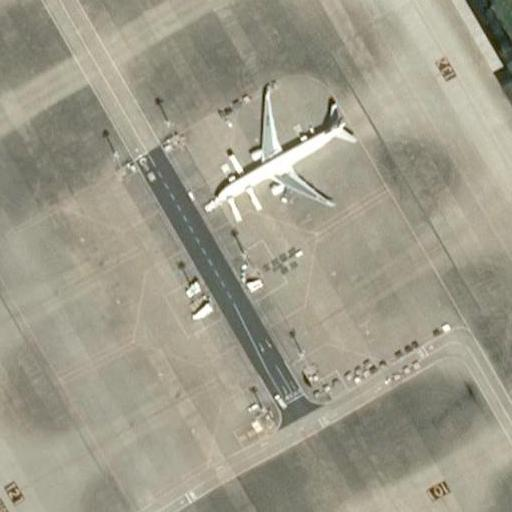Aircraft: (206, 88, 355, 213)
